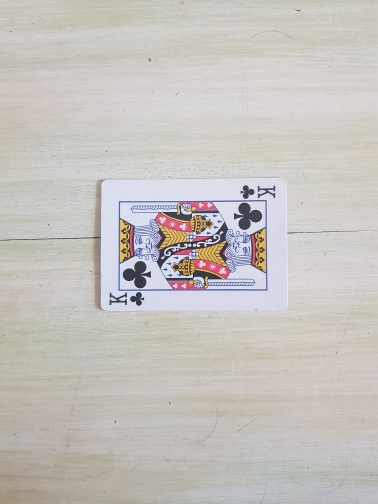king: (100, 179, 289, 312)
